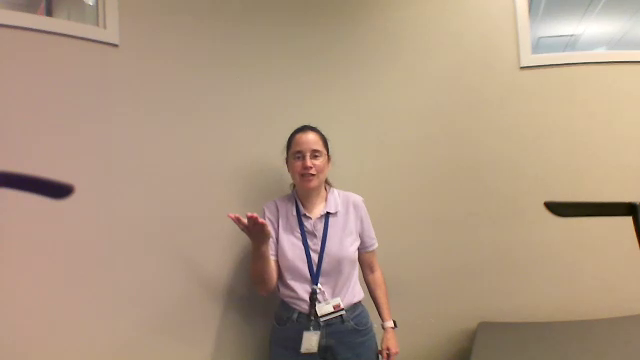land: (213, 200, 283, 253)
